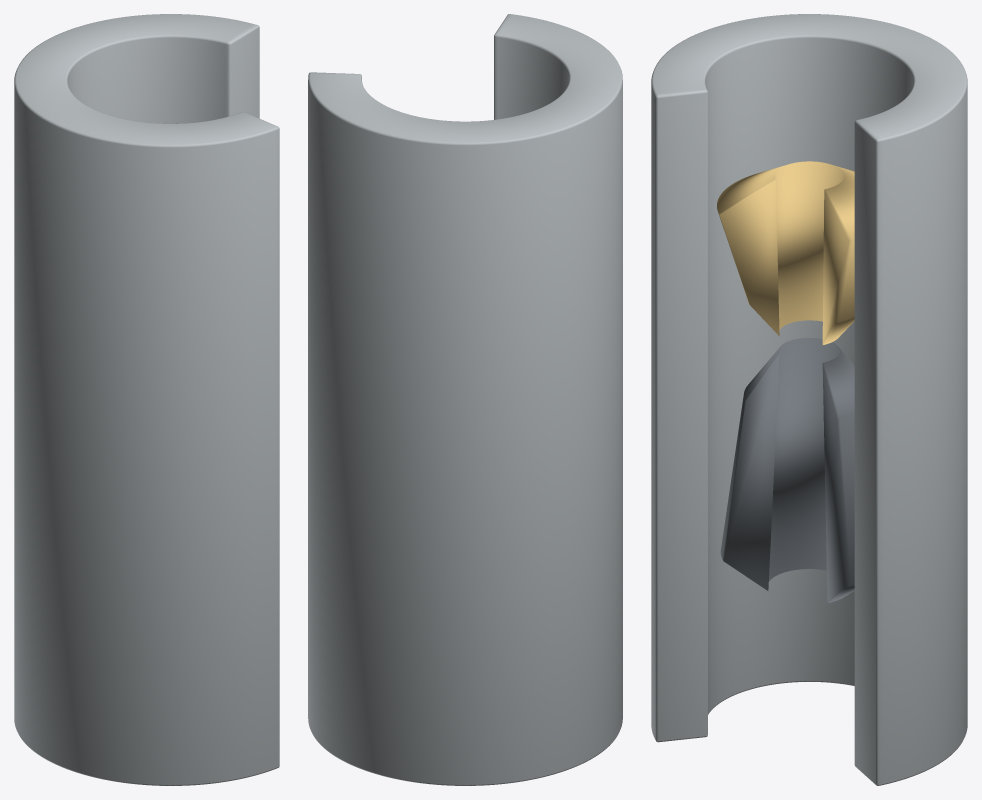
The model's file is jet-pump.glb.
3 renders of one model, left to right at view 1: azimuth 30°, elevation 25°; view 2: azimuth 150°, elevation 25°; view 3: azimuth 270°, elevation 25°, orthographic.
Visible parts, largest first — view 1: Jet pump housing; view 2: Jet pump housing; view 3: Jet pump housing, Throat diffuser, Nozzle.
Part boxes in pixels (box(x1,y1,x2,y2)): Jet pump housing: box(14, 14, 279, 785); Jet pump housing: box(308, 14, 622, 785); Jet pump housing: box(651, 14, 967, 785); Throat diffuser: box(720, 338, 854, 602); Nozzle: box(717, 161, 854, 344).
Bounding box in the file's own units: 1.56 × 3.7 × 1.64.
